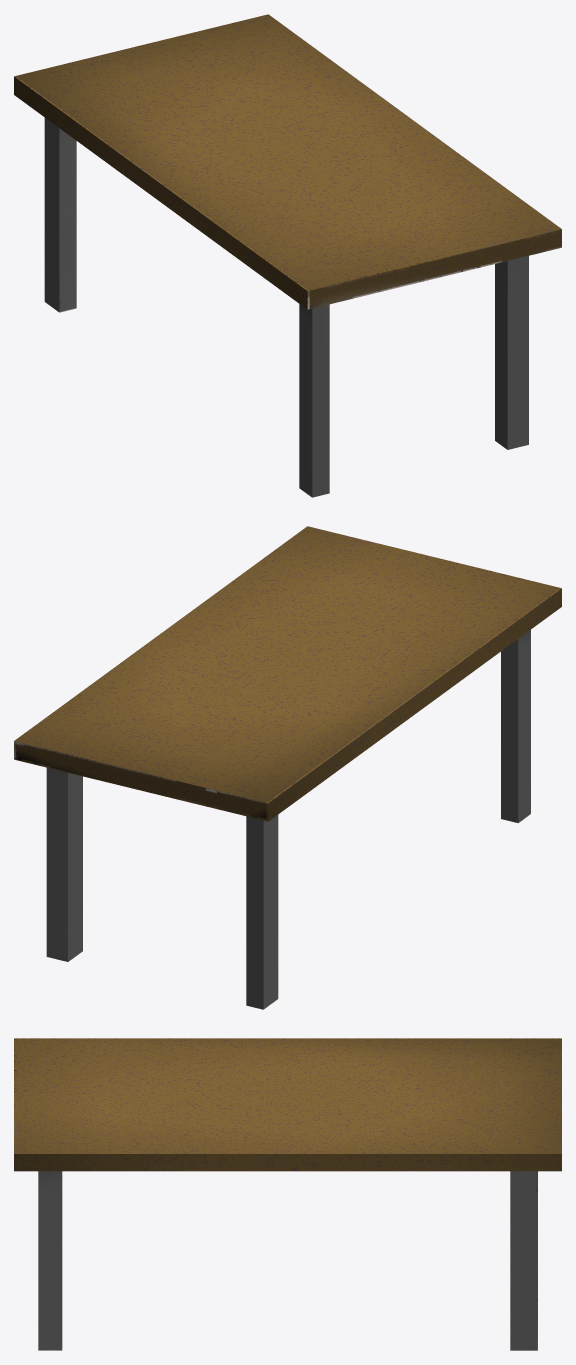
Rendered from Table.fbx.
3 renders of one model, top to bottom at view 1: azimuth 30°, elevation 25°; view 2: azimuth 150°, elevation 25°; view 3: azimuth 270°, elevation 25°, orthographic. The views are drawn at different scales.
Parts seen in each view (by area): view 1: Cube; view 2: Cube; view 3: Cube.
Boxes of the visible parts, <box> form: Cube: <box>14,14,561,497</box>; Cube: <box>14,526,561,1009</box>; Cube: <box>14,1038,561,1350</box>.
Bounding box in the file's own units: 574 × 475 × 1146.
